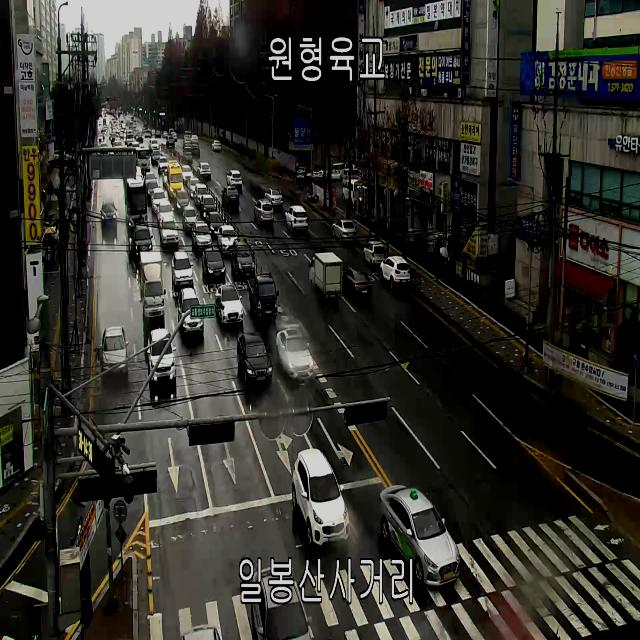Car: (380, 484, 460, 586), (292, 449, 349, 547), (251, 566, 312, 640), (276, 327, 314, 379), (237, 333, 273, 385), (147, 328, 176, 382), (123, 167, 148, 228), (101, 326, 129, 377), (178, 287, 204, 334), (216, 284, 244, 324), (380, 256, 410, 290), (231, 238, 255, 277), (343, 268, 372, 297), (202, 246, 226, 280), (172, 250, 193, 288), (191, 219, 212, 251), (182, 624, 221, 640), (363, 241, 386, 268), (285, 206, 308, 233), (217, 225, 238, 254), (134, 225, 153, 257), (167, 160, 183, 198), (332, 219, 356, 242), (342, 179, 362, 206), (254, 198, 273, 226), (161, 216, 178, 244), (157, 200, 174, 228), (182, 206, 198, 234), (100, 200, 117, 226), (222, 186, 240, 210), (206, 212, 224, 236), (200, 195, 216, 220), (175, 190, 191, 213), (265, 188, 283, 208), (342, 169, 362, 186), (152, 188, 166, 212), (195, 183, 208, 206), (227, 170, 242, 189), (296, 167, 312, 184), (332, 162, 344, 182), (188, 178, 200, 197), (197, 162, 211, 178), (146, 181, 158, 199), (313, 167, 328, 181), (158, 156, 169, 174), (182, 165, 193, 182), (145, 172, 156, 187), (148, 138, 159, 152), (184, 146, 192, 164), (151, 150, 161, 164), (183, 140, 192, 153), (212, 140, 221, 152), (162, 169, 168, 186), (166, 136, 175, 147), (115, 140, 122, 154), (192, 144, 200, 155), (100, 143, 108, 154), (132, 142, 139, 154), (190, 135, 198, 144), (171, 131, 177, 142), (136, 134, 144, 142), (348, 164, 360, 169), (183, 134, 190, 142), (155, 130, 161, 138), (162, 130, 168, 138), (145, 130, 151, 138), (97, 136, 103, 142), (111, 136, 116, 143), (101, 130, 106, 136), (102, 133, 106, 140), (109, 133, 112, 140), (152, 129, 155, 135)
Truck: (140, 249, 166, 318), (308, 252, 342, 299), (248, 274, 280, 318), (133, 147, 151, 175), (126, 133, 134, 147)
